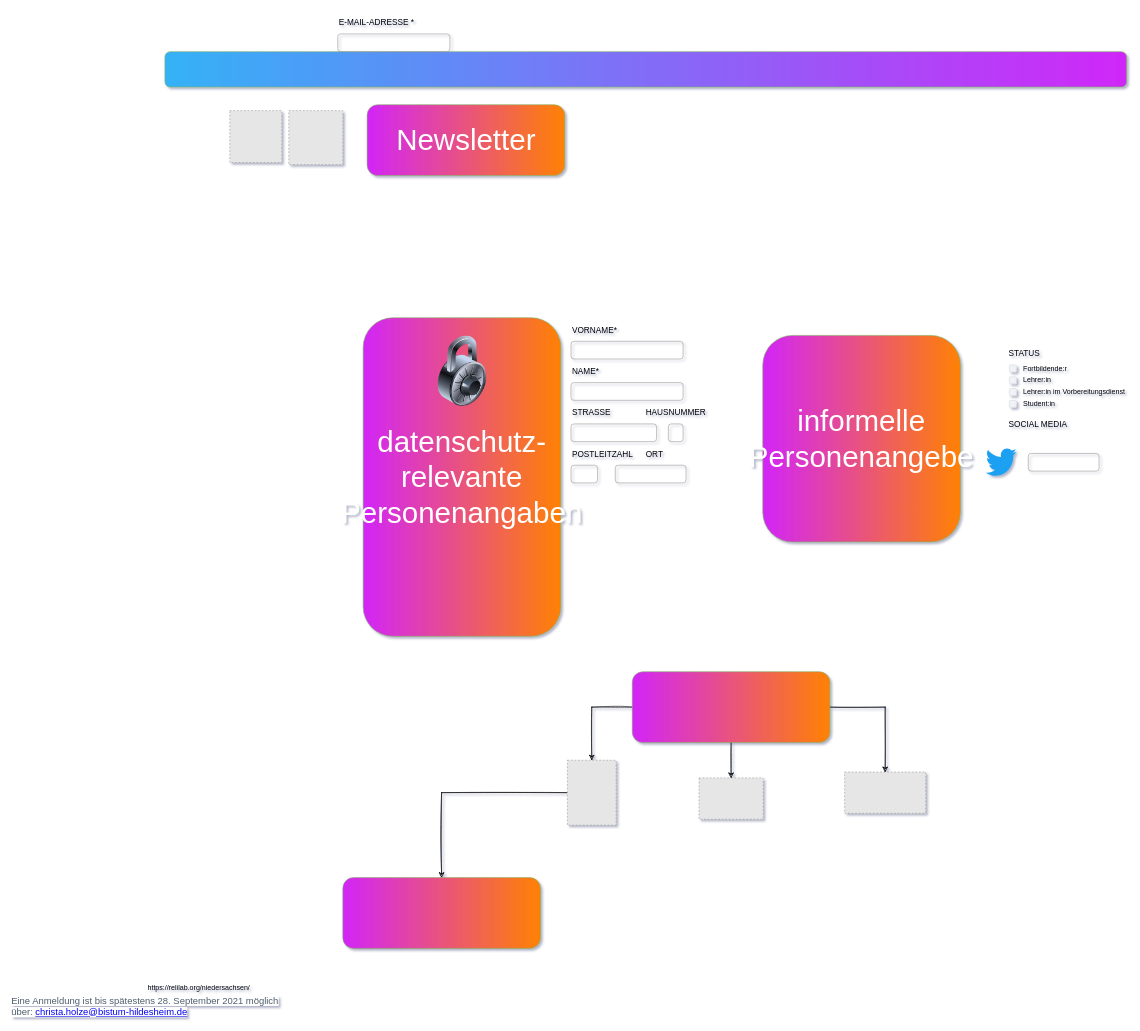
Image size: 1140x1031. Some labels were removed from this diagram. Grey dashed boxes stand in for pictures. Each missing label, with the box of its shape:
Bundesländer: (342, 877, 540, 948)
Länderauswahl: (632, 671, 830, 743)
relilab - Anmeldung: (164, 51, 1127, 87)
